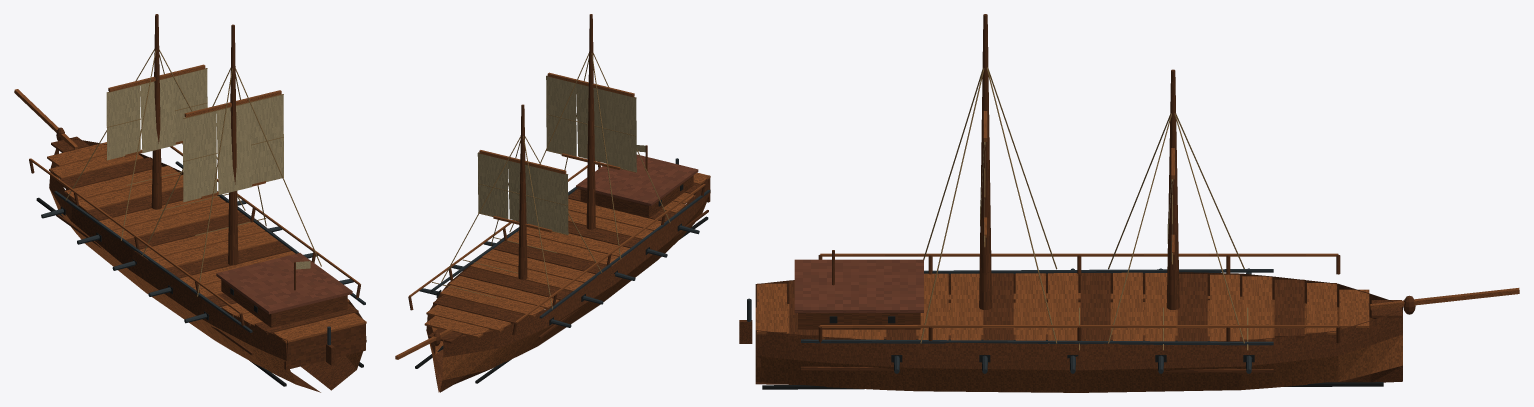
The model's file is KIT_ship_la_liberacion.gltf.
The picture shows the model from 3 angles, left to right: view 1: azimuth 30°, elevation 25°; view 2: azimuth 150°, elevation 25°; view 3: azimuth 270°, elevation 25°; orthographic projection. The views are drawn at different scales.
Parts seen in each view (by area): view 1: hull, sail_02, sail_01; view 2: hull, sail_02, sail_01; view 3: hull.
Part boxes in pixels (x1,y1,x2,y2): hull: [14, 14, 366, 392]; sail_02: [183, 94, 283, 202]; sail_01: [106, 68, 207, 160]; hull: [395, 14, 710, 392]; sail_02: [546, 75, 636, 172]; sail_01: [477, 152, 568, 235]; hull: [755, 14, 1519, 392].
Bounding box in the file's own units: 6.63 × 11.25 × 21.71.
Materials: 7 (7 with a texture image).
